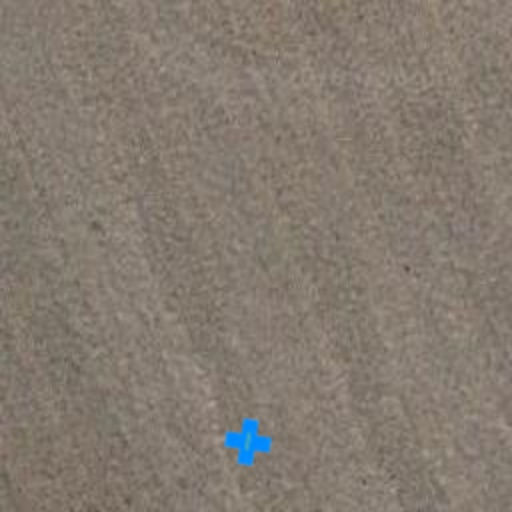cross: (222, 416, 274, 468)
